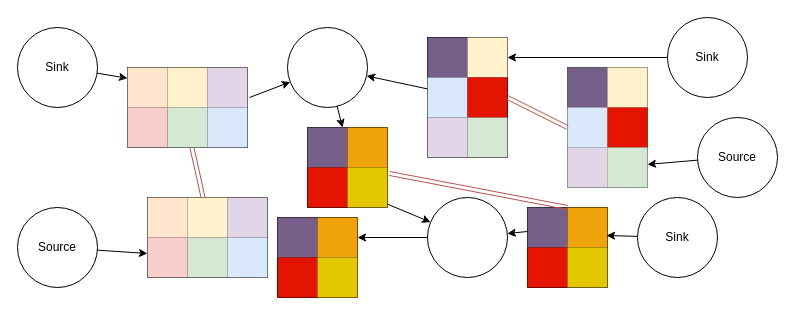
Image size: 795x315. Some labels were removed from this diagram. The shapes that lost their labels are listed below. From the top down, each one's box as (x1, y1, x2, y2) in pixels, then its label:
(286, 26, 368, 108): Barrier
(426, 196, 508, 278): SumLike (add)
